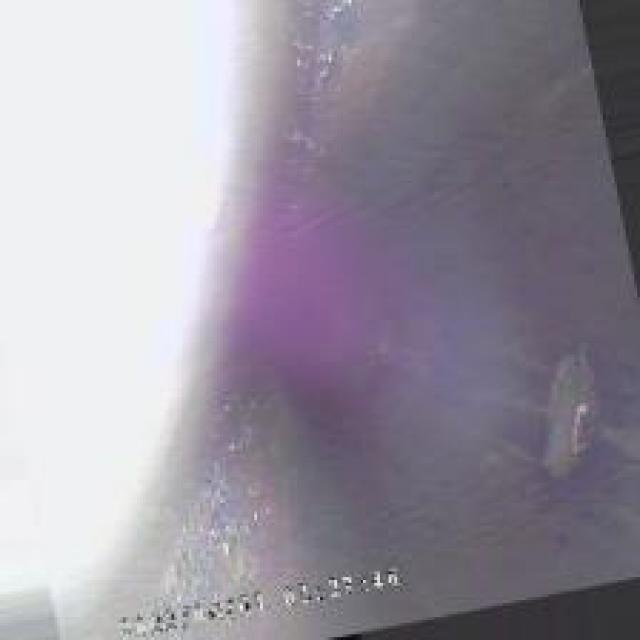ferrule: (529, 351, 620, 466)
